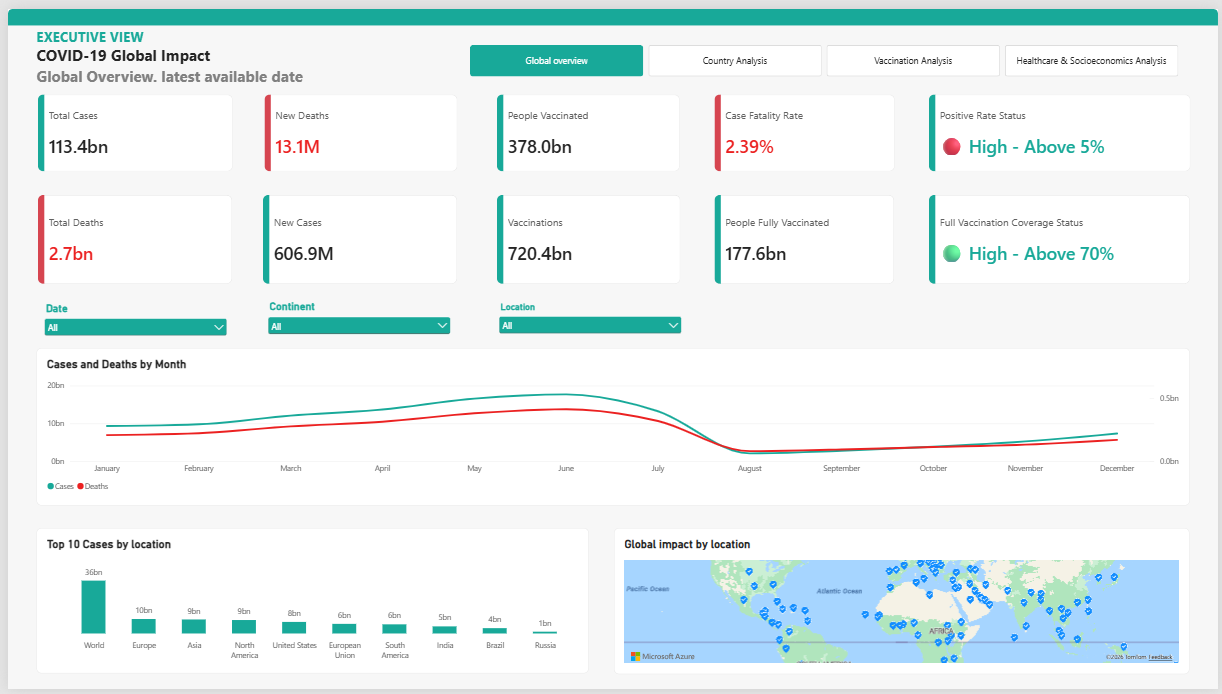

The dashboard page shown, as its layout file describes it:
{"tool":"powerbi","page":{"name":"Global overview","canvas":[1920,1080],"ordinal":0},"visuals":[{"type":"cardVisual","fields":{"Data":["calculations.Total Cases"]},"box":[47.7,136.4,309.1,122.7],"z":0},{"type":"cardVisual","fields":{"Data":["calculations.Total Deaths"]},"box":[47.1,294.1,308.8,141.2],"z":1},{"type":"cardVisual","fields":{"Data":["calculations.New Cases"]},"box":[405.9,294.1,308.8,141.2],"z":2},{"type":"cardVisual","fields":{"Data":["calculations.New Deaths"]},"box":[406.8,136.4,306.8,122.7],"z":3},{"type":"cardVisual","fields":{"Data":["calculations.People Fully Vaccinated"]},"box":[1120.6,294.1,285.3,141.2],"z":4},{"type":"cardVisual","fields":{"Data":["calculations.People Vaccinated"]},"box":[777.3,136.4,290.9,122.7],"z":5},{"type":"cardVisual","fields":{"Data":["calculations.Vaccinations"]},"box":[776.5,294.1,291.2,141.2],"z":6},{"type":"cardVisual","fields":{"Data":["calculations.Case Fatality Rate"]},"box":[1120.5,136.4,286.4,122.7],"z":7},{"type":"cardVisual","fields":{"Data":["calculations.Full Vaccination Coverage Status"]},"box":[1461.8,294.1,414.7,141.2],"z":8},{"type":"cardVisual","fields":{"Data":["calculations.Positive Rate Status"]},"box":[1461.4,136.4,415.9,122.7],"z":9},{"type":"shape","box":[0,0,1920.6,26.5],"z":10},{"type":"lineChart","title":"Cases and Deaths by Month","fields":{"Category":["Sheet1.date.Variation.Date Hierarchy.Month"],"Y":["calculations.Total Cases"],"Y2":["calculations.Total Deaths"]},"box":[46.2,538.5,1830.8,250],"z":11},{"type":"columnChart","title":"Top 10 Cases by location","fields":{"Category":["Sheet1.location"],"Y":["calculations.Total Cases"]},"box":[46.2,823.1,876.9,230.8],"z":12},{"type":"azureMap","title":"Global impact by location","fields":{"Category":["Sheet1.location"],"Size":["calculations.Positive Rate"]},"box":[961.4,822.7,913.6,231.8],"z":13},{"type":"slicer","fields":{"Values":["Sheet1.date"]},"box":[52.3,463.6,300,59.1],"z":14},{"type":"slicer","fields":{"Values":["Sheet1.continent"]},"box":[406.8,461.4,300,61.4],"z":15},{"type":"slicer","fields":{"Values":["Sheet1.location"]},"box":[772.7,463.6,300,59.1],"z":16},{"type":"textbox","box":[45.5,29.5,484.1,106.8],"z":18},{"type":"pageNavigator","box":[734.1,56.8,1127.3,50],"z":19}]}

Visuals, with their boxes in screenshot pixels (x1, y1, x2, y2), scaled from the page's 1920x1080 canvas onto the 1222x694 screenshot:
cardVisual - calculations.Total Cases: <box>30,88,227,166</box>
cardVisual - calculations.Total Deaths: <box>30,189,227,280</box>
cardVisual - calculations.New Cases: <box>258,189,455,280</box>
cardVisual - calculations.New Deaths: <box>259,88,454,166</box>
cardVisual - calculations.People Fully Vaccinated: <box>713,189,895,280</box>
cardVisual - calculations.People Vaccinated: <box>495,88,680,166</box>
cardVisual - calculations.Vaccinations: <box>494,189,680,280</box>
cardVisual - calculations.Case Fatality Rate: <box>713,88,895,166</box>
cardVisual - calculations.Full Vaccination Coverage Status: <box>930,189,1194,280</box>
cardVisual - calculations.Positive Rate Status: <box>930,88,1195,166</box>
shape: <box>0,0,1221,17</box>
"Cases and Deaths by Month" lineChart: <box>29,346,1195,507</box>
"Top 10 Cases by location" columnChart: <box>29,529,588,677</box>
"Global impact by location" azureMap: <box>612,529,1193,678</box>
slicer - Sheet1.date: <box>33,298,224,336</box>
slicer - Sheet1.continent: <box>259,296,450,336</box>
slicer - Sheet1.location: <box>492,298,683,336</box>
textbox: <box>29,19,337,88</box>
pageNavigator: <box>467,36,1185,69</box>
